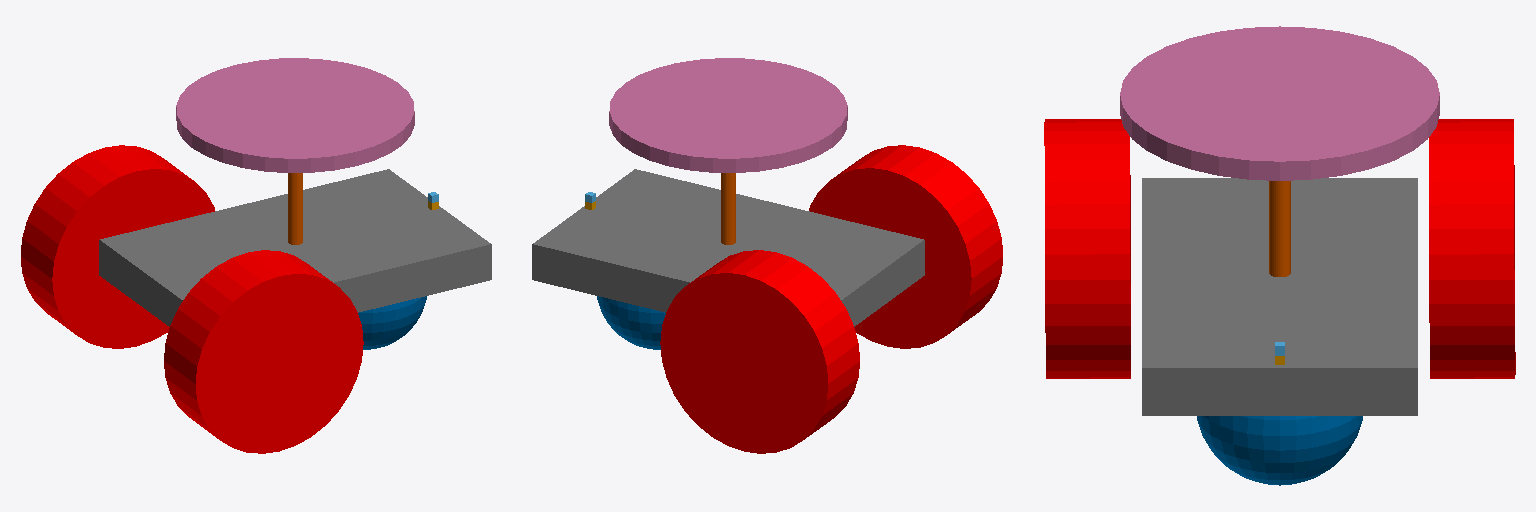
URDF robot description (ground_bot):
<?xml version="1.0"?>
<robot name="ground_bot">



  <link name="base_link">  
    <visual>
      <origin xyz="0.0 -0.0 0.0" rpy="0 0 0"/>
      <geometry>
        <box size="0.42 0.258 0.05"/>
      </geometry>
      <material name="gray">
        <color rgba="0.5 0.5 0.5 1"/>
      </material>
    </visual>
    <collision>
      <origin xyz="0.0 -0.0 0.0" rpy="0 0 0"/>
      <geometry>
        <box size="0.42 0.258 0.1"/>
      </geometry>
    </collision>
    <inertial>
      <mass value="100"/>
      <inertia ixx="1" iyy="1" izz="1" ixy="0" ixz="0" iyz="0"/>
    </inertial>
  </link>

  <joint name="base_joint" type="fixed">
    <parent link="base_link"/>
    <child link="base_footprint"/>
    <origin xyz="0.0 0.0 -0.15" rpy="0 0 0"/>
  </joint>



  <link name="base_footprint">
  </link>


  <link name="wheel_right_link">
    <visual>
      <origin xyz="0.0 -0.0 0.0" rpy="0 0 0"/>
      <geometry>
        <cylinder length="0.08" radius="0.122"/>
      </geometry>
      <material name="red">
        <color rgba="1 0 0 1"/>
      </material>
    </visual>
    <collision> 
      <origin xyz="0.0 -0.0 0.0" rpy="0 0 0"/>
      <geometry>
        <cylinder length="0.08" radius="0.122"/>
      </geometry>
    </collision>
    <inertial>
      <mass value="10"/>
      <inertia ixx="1" iyy="1" izz="1" ixy="0" ixz="0" iyz="0"/>
    </inertial>
  </link>

  <link name="wheel_left_link">
    <visual>
      <origin xyz="0.0 -0.0 0.0" rpy="0 0 0"/>
      <geometry>
        <cylinder length="0.08" radius="0.122"/>
      </geometry>
      <material name="red">
        <color rgba="1 0 0 1"/>
      </material>
    </visual>
    <collision>
      <origin xyz="0.0 -0.0 0.0" rpy="0 0 0"/>
      <geometry>
        <cylinder length="0.08" radius="0.122"/>
      </geometry> 
    </collision>
    <inertial>
      <mass value="10"/>
      <inertia ixx="1" iyy="1" izz="1" ixy="0" ixz="0" iyz="0"/>
    </inertial>
  </link>

<joint name="wheel_right_joint" type="continuous">
  <parent link="base_link"/>
  <child link="wheel_right_link"/>
  <origin xyz="-0.15 -0.18 -0.02" rpy="1.577 0 0"/>
  <axis xyz="0 0 -1"/>
</joint>

<joint name="wheel_left_joint" type="continuous">
  <parent link="base_link"/>
  <child link="wheel_left_link"/>
  <origin xyz="-0.15 0.18 -0.02" rpy="1.577 0 0"/>
  <axis xyz="0 0 -1"/>
</joint>

<link name ="caster_wheel_link">
  <visual>
    <origin xyz="0 0 0" rpy="0 0 0"/>
    <geometry>
      <sphere radius="0.08"/>
    </geometry>
  </visual>
  <collision>
    <origin xyz="0 0 0" rpy="0 0 0"/>
    <geometry>
      <sphere radius="0.08"/>
    </geometry>
  </collision>
  <inertial>
    <mass value="30"/>
    <inertia ixx="1" iyy="1" izz="1" ixy="0" ixz="0" iyz="0"/>
  </inertial>
</link>

<joint name="caster_wheel_joint" type="fixed">
  <parent link="base_link"/>
  <child link="caster_wheel_link"/>
  <origin xyz="0.1 0 -0.06" rpy="0 0 0"/>
</joint>

    <gazebo reference="caster_wheel_link">
        <material>Gazebo/White</material>
        <mu1 value="0.001"/>
        <mu2 value="0.001"/>
    </gazebo>


<link name="stand_link">
  <visual>
    <origin xyz="0 0 0" rpy="0 0 0"/>
    <geometry>
      <cylinder length="0.2" radius="0.01"/>
    </geometry>
  </visual>
</link>

<joint name="stand_joint" type="fixed">
  <parent link="base_link"/>
  <child link="stand_link"/>
  <origin xyz="0 0 0.1" rpy="0 0 0"/>
</joint>

<link name= "launch_pad_link">
  <visual>
    <origin xyz="0 0 0" rpy="0 0 0"/>
    <geometry>
      <cylinder length="0.02" radius="0.15"/>
    </geometry>
  </visual>
</link>

<joint name="launch_pad_joint" type="fixed">
  <parent link="stand_link"/>
  <child link="launch_pad_link"/>
  <origin xyz="0 0 0.1" rpy="0 0 0"/>
</joint>

<link name="imu_link">
  <visual>
    <origin xyz="0 0 0" rpy="0 0 0"/>
    <geometry>
      <box size="0.01 0.01 0.01"/>
    </geometry>
  </visual>
</link>

<joint name="imu_joint" type="fixed">
  <parent link="base_link"/>
  <child link="imu_link"/>
  <origin xyz="0 0 0" rpy="0 0 0"/>
</joint>


<link name="lidar_link">
  <visual>
    <origin xyz="0 0 0" rpy="0 0 0"/>
    <geometry>
      <box size="0.01 0.01 0.01"/>
    </geometry>
  </visual>
</link>

<joint name="lidar_joint" type="fixed">
  <parent link="base_link"/>
  <child link="lidar_link"/>
  <origin xyz="0.2 0 0.03" rpy="0 0 0"/>
</joint>


  <gazebo reference="lidar_link">
    <sensor name="lidar" type="gpu_lidar">
      <ignition_frame_id>lidar_link</ignition_frame_id>
      <topic>scan</topic>
      <always_on>true</always_on>
      <visualize>true</visualize>
      <update_rate>2</update_rate>
      <ray>
        <scan>
          <horizontal>
            <samples>180</samples>
            <resolution>1.000000</resolution>
            <min_angle>-0.75</min_angle>
            <max_angle>0.75</max_angle>
          </horizontal>
        </scan>
        <range>
          <min>0.120000</min>
          <max>3.5</max>
          <resolution>0.015000</resolution>
        </range>
        <noise>
          <type>gaussian</type>
          <mean>0.0</mean>
          <stddev>0.01</stddev>
        </noise>
      </ray>
    </sensor>
  </gazebo>

<link name="depth_camera_real_link">
  <visual>
    <origin xyz="0 0 0" rpy="0 0 0"/>
    <geometry>
      <box size="0.01 0.01 0.01"/>
    </geometry>
  </visual>
</link>

<joint name="depth_camera_real_joint" type="fixed">
  <parent link="base_link"/>
  <child link="depth_camera_real_link"/>
  <origin xyz="0.2 0 0.04" rpy="0 0 0"/>
</joint>


  <gazebo reference="imu_link">
    <sensor name="imu_sensor" type="imu">
      <ignition_frame_id>imu_link</ignition_frame_id>
      <plugin filename="ignition-gazebo-imu-system" name="ignition::gazebo::systems::Imu">
      </plugin>

      <topic>imu</topic>
      <always_on>true</always_on>
      <update_rate>100</update_rate>
      <visualize>true</visualize>
      <imu>
        <angular_velocity>
          <x>
            <noise type="gaussian">
              <mean>0.0</mean>
              <stddev>2e-4</stddev>
              <bias_mean>0.0000075</bias_mean>
              <bias_stddev>0.0000008</bias_stddev>
            </noise>
          </x>
          <y>
            <noise type="gaussian">
              <mean>0.0</mean>
              <stddev>2e-4</stddev>
              <bias_mean>0.0000075</bias_mean>
              <bias_stddev>0.0000008</bias_stddev>
            </noise>
          </y>
          <z>
            <noise type="gaussian">
              <mean>0.0</mean>
              <stddev>2e-4</stddev>
              <bias_mean>0.0000075</bias_mean>
              <bias_stddev>0.0000008</bias_stddev>
            </noise>
          </z>
        </angular_velocity>
        <linear_acceleration>
          <x>
            <noise type="gaussian">
              <mean>0.0</mean>
              <stddev>1.7e-2</stddev>
              <bias_mean>0.1</bias_mean>
              <bias_stddev>0.001</bias_stddev>
            </noise>
          </x>
          <y>
            <noise type="gaussian">
              <mean>0.0</mean>
              <stddev>1.7e-2</stddev>
              <bias_mean>0.1</bias_mean>
              <bias_stddev>0.001</bias_stddev>
            </noise>
          </y>
          <z>
            <noise type="gaussian">
              <mean>0.0</mean>
              <stddev>1.7e-2</stddev>
              <bias_mean>0.1</bias_mean>
              <bias_stddev>0.001</bias_stddev>
            </noise>
          </z>
        </linear_acceleration>
      </imu>
    </sensor>
  </gazebo>


<ros2_control name="IgnitionSystem" type="system">
  <hardware>
    <plugin>ign_ros2_control/IgnitionSystem</plugin>
  </hardware>

  <!-- Rear driving wheels -->
  <joint name="wheel_right_joint">
    <command_interface name="velocity">
      <param name="min">-100.0</param>
      <param name="max">100.0</param>
    </command_interface>
    <state_interface name="velocity"/>
    <state_interface name="position"/>
  </joint>

  <joint name="wheel_left_joint">
    <command_interface name="velocity">
      <param name="min">-100.0</param>
      <param name="max">100.0</param>
    </command_interface>
    <state_interface name="velocity"/>
    <state_interface name="position"/>
  </joint>




</ros2_control>
  <gazebo>
    <plugin filename="ign_ros2_control-system" name="ign_ros2_control::IgnitionROS2ControlPlugin">
      <parameters>[local-path]/Desktop/naor/study/Thesis/src/ground_bot/config/diff_drive_controller_velocity.yaml</parameters>
    </plugin>
  </gazebo>


</robot>

--- What the picture shows (computed from the rendered views, not written in the file) ---
The picture shows the robot from 3 angles, left to right: view 1: azimuth 30°, elevation 25°; view 2: azimuth 150°, elevation 25°; view 3: azimuth 270°, elevation 25°; orthographic projection.
Model ground_bot with 10 links and 9 joints (2 continuous, 7 fixed), rooted at base_link, posed all joints at 0.
Links seen in each view (by area): view 1: base_link, wheel_right_link, launch_pad_link, wheel_left_link, caster_wheel_link, stand_link; view 2: wheel_left_link, base_link, launch_pad_link, wheel_right_link, caster_wheel_link, stand_link; view 3: base_link, launch_pad_link, wheel_right_link, wheel_left_link, caster_wheel_link, stand_link.
Link boxes in pixels (x1=…): base_link: x1=99, y1=169, x2=491, y2=326; wheel_right_link: x1=164, y1=250, x2=363, y2=453; launch_pad_link: x1=176, y1=58, x2=414, y2=172; wheel_left_link: x1=21, y1=145, x2=214, y2=348; caster_wheel_link: x1=358, y1=296, x2=426, y2=349; stand_link: x1=288, y1=173, x2=302, y2=244; wheel_left_link: x1=660, y1=250, x2=859, y2=453; base_link: x1=532, y1=169, x2=924, y2=326; launch_pad_link: x1=609, y1=58, x2=847, y2=172; wheel_right_link: x1=809, y1=145, x2=1002, y2=348; caster_wheel_link: x1=597, y1=296, x2=665, y2=349; stand_link: x1=721, y1=173, x2=735, y2=244; base_link: x1=1142, y1=178, x2=1417, y2=415; launch_pad_link: x1=1120, y1=26, x2=1439, y2=180; wheel_right_link: x1=1044, y1=119, x2=1130, y2=378; wheel_left_link: x1=1429, y1=119, x2=1515, y2=378; caster_wheel_link: x1=1197, y1=416, x2=1362, y2=485; stand_link: x1=1269, y1=181, x2=1290, y2=276.
Bounding box of the posed robot: 0.482 × 0.4415 × 0.3522 m (x, y, z).
Geometry: primitives only (box / cylinder / sphere), no mesh files.
